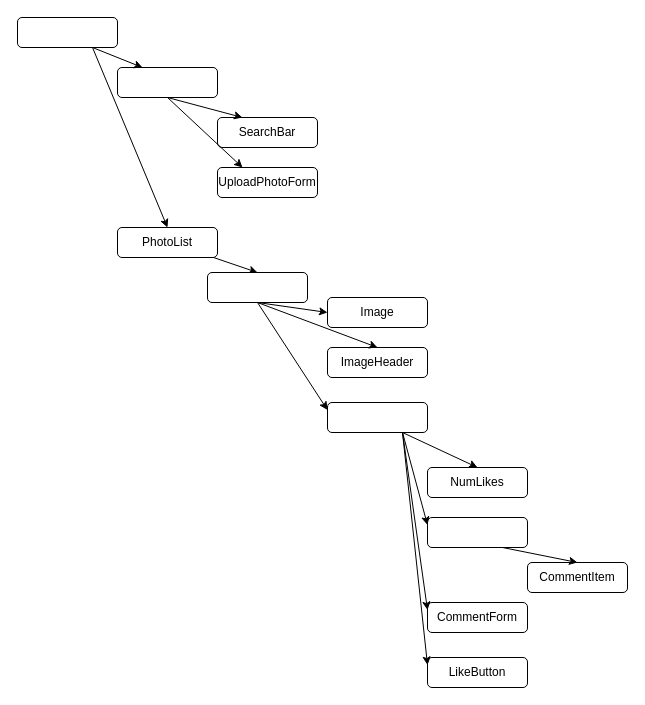
Image size: 645x705. Some labels were removed from this diagram. Each missing label, with the box of its shape:
App: (16, 16, 118, 48)
CommentBox: (326, 402, 428, 432)
CommentTable: (426, 516, 528, 548)
NavBar: (116, 66, 218, 98)
Post: (206, 272, 308, 302)
